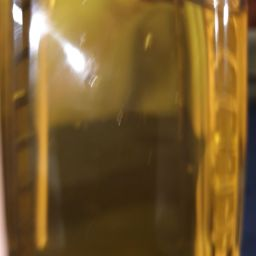Oil: (16, 10, 231, 256)
